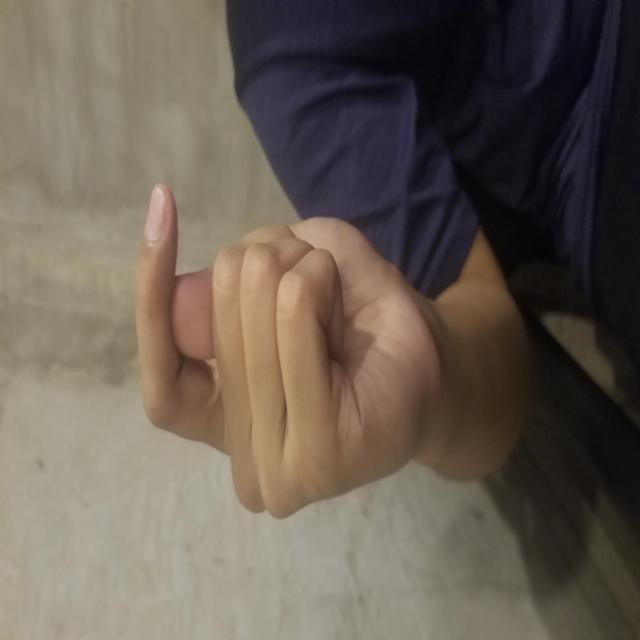T: (119, 136, 454, 432)
